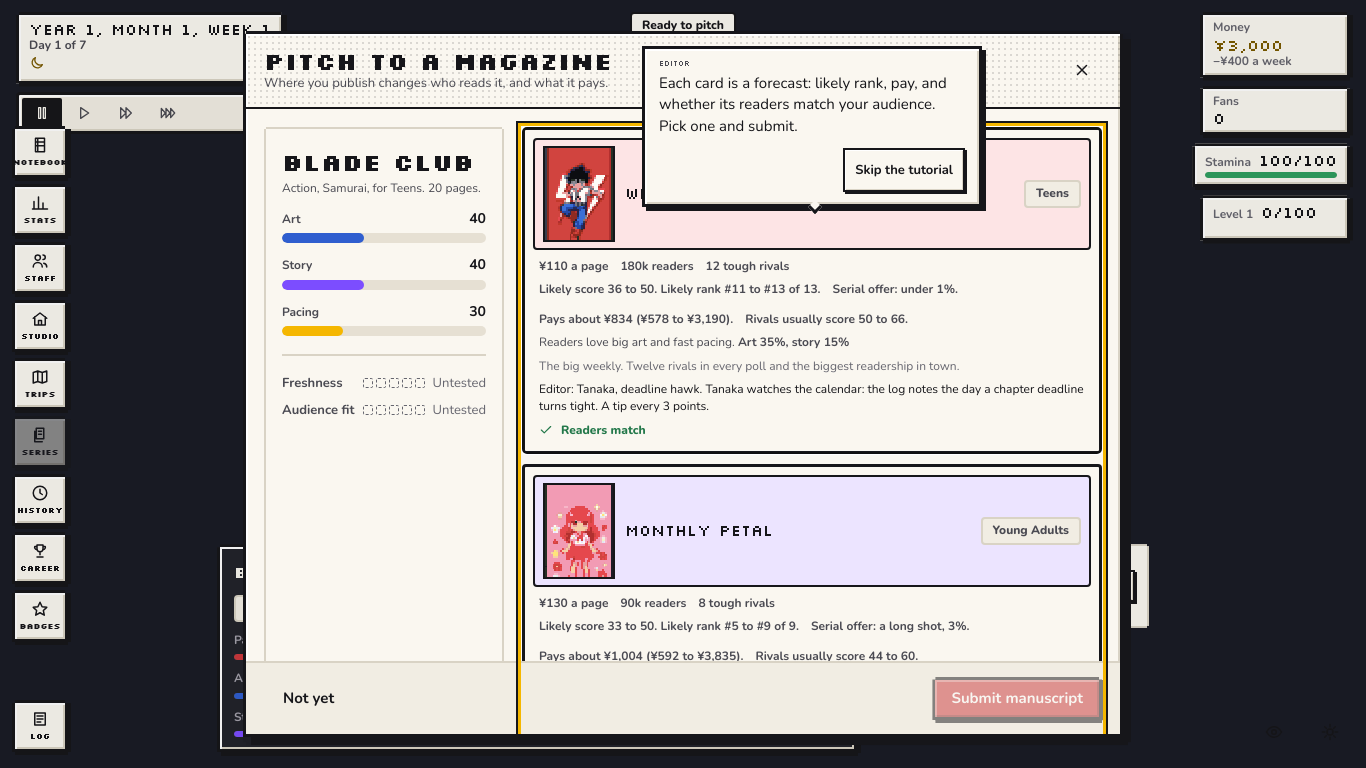
TutorialGuide: buttons › Skip works from inside a dialog too
Click the button "Skip the tutorial" at [904, 170], box [843,148,965,192]
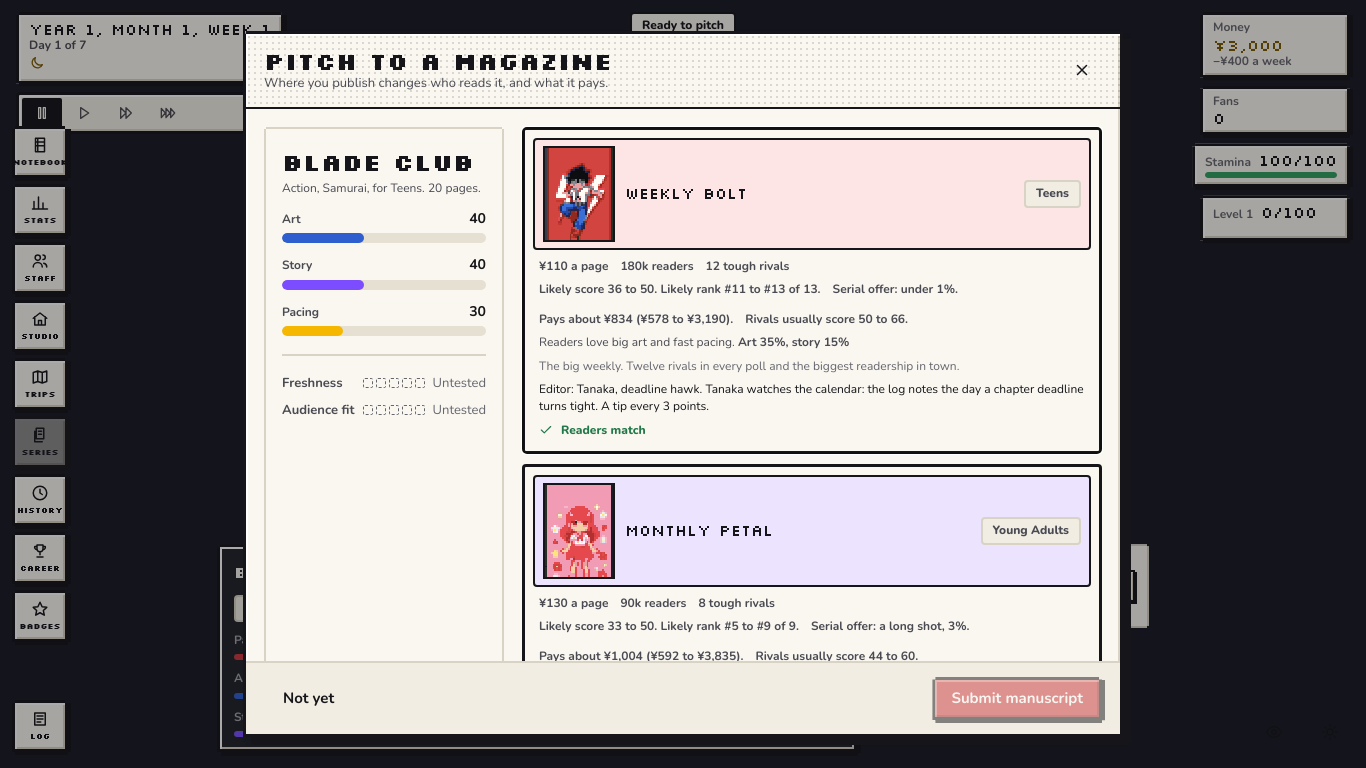
Result: the element with class "tutorial-bubble" is gone
